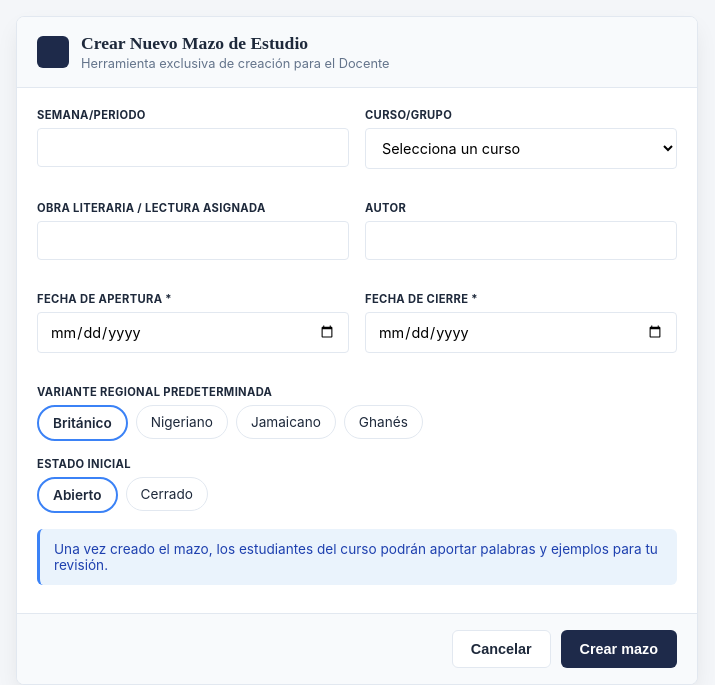
Test: CrearMazoForm › muestra un error si la fecha de cierre es anterior a la de apertura
The image size is (715, 685).
Select "Literatura Anglófona - Grupo 1" in the dropdown labelled "Curso/grupo" at (521, 148), box [365,128,677,169]
Type "3" into the field labelled "Semana/periodo" at (193, 148), box [37,128,349,167]
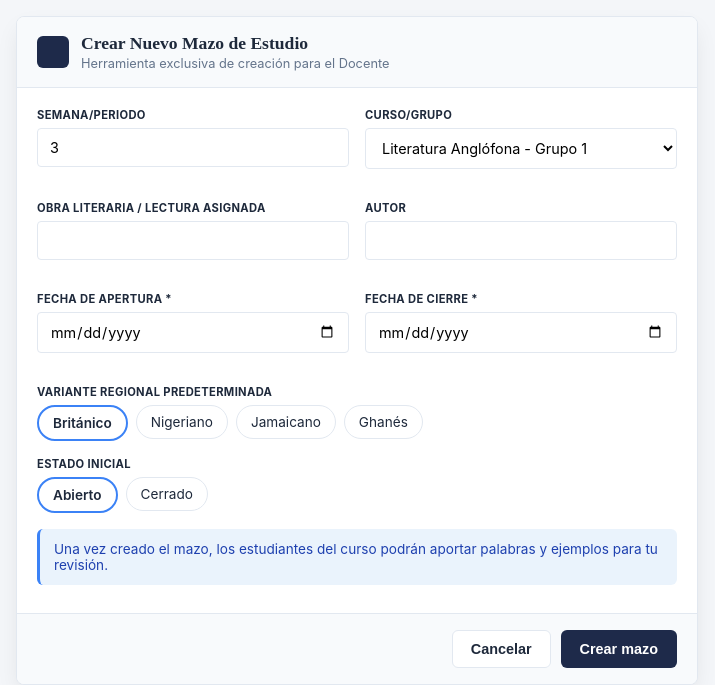
Type "Things Fall Apart" into the field labelled "Obra literaria / lectura asignada" at (193, 240), box [37,221,349,260]
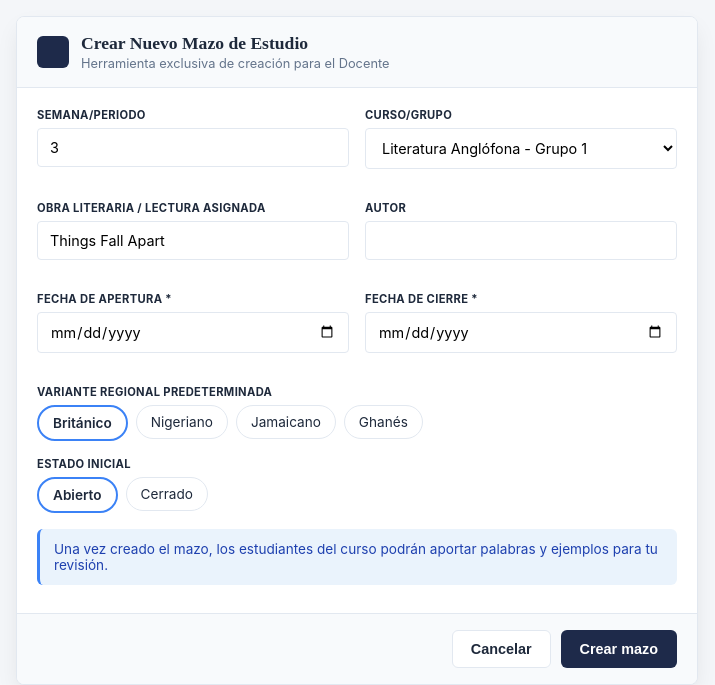
Type "Chinua Achebe" into the field labelled "Autor" at (521, 240), box [365,221,677,260]
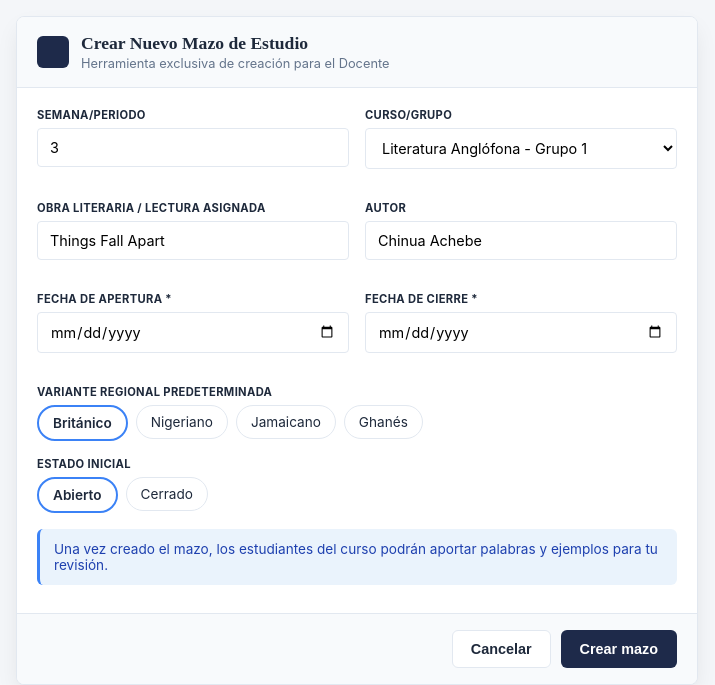
Type "2026-09-10" into the date field labelled "Fecha de apertura *" at (193, 332), box [37,312,349,353]
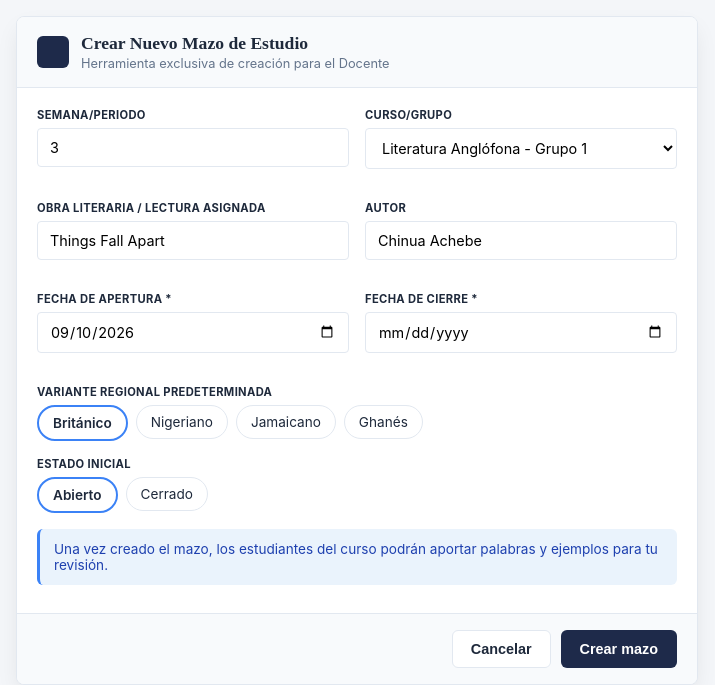
Type "2026-09-05" into the date field labelled "Fecha de cierre *" at (521, 332), box [365,312,677,353]
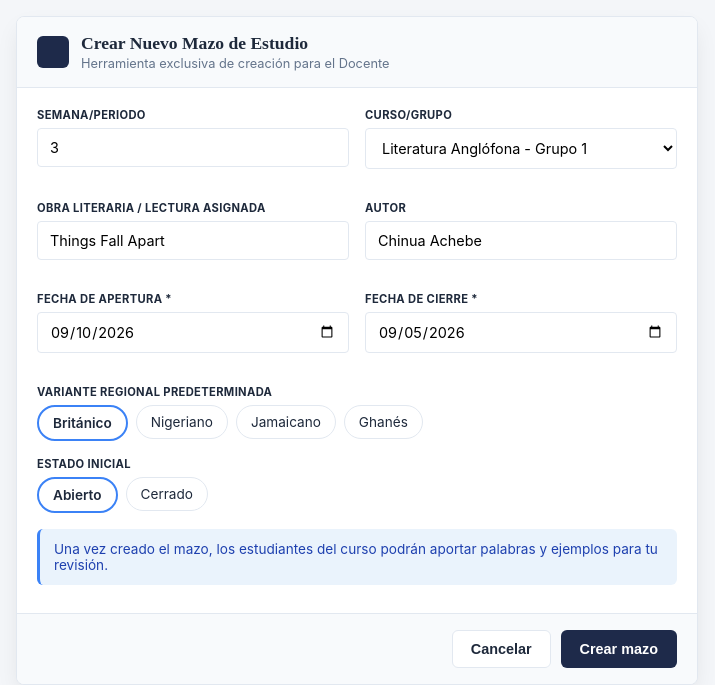
Click the button "Crear mazo" at (619, 649), box [561,630,677,668]
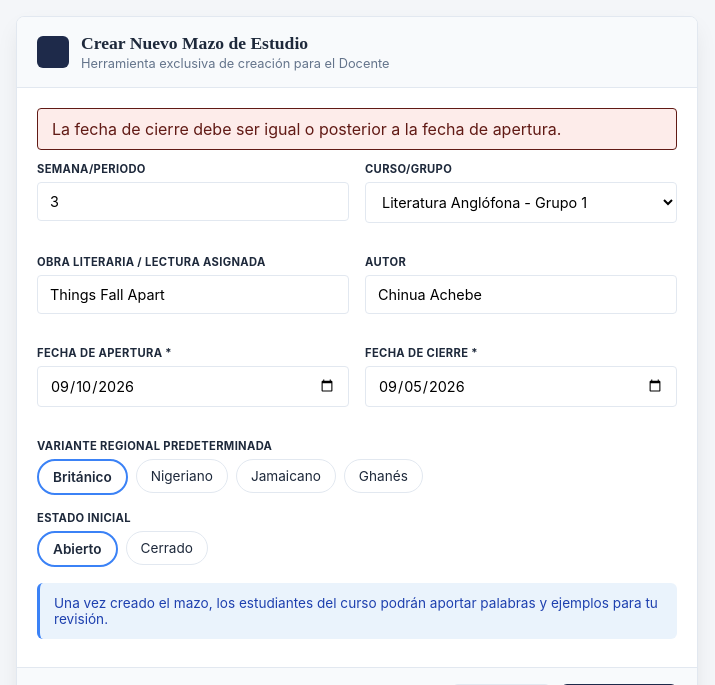
Expected: the message shows "fecha de cierre debe ser igual o posterior", [52,119,561,139]
